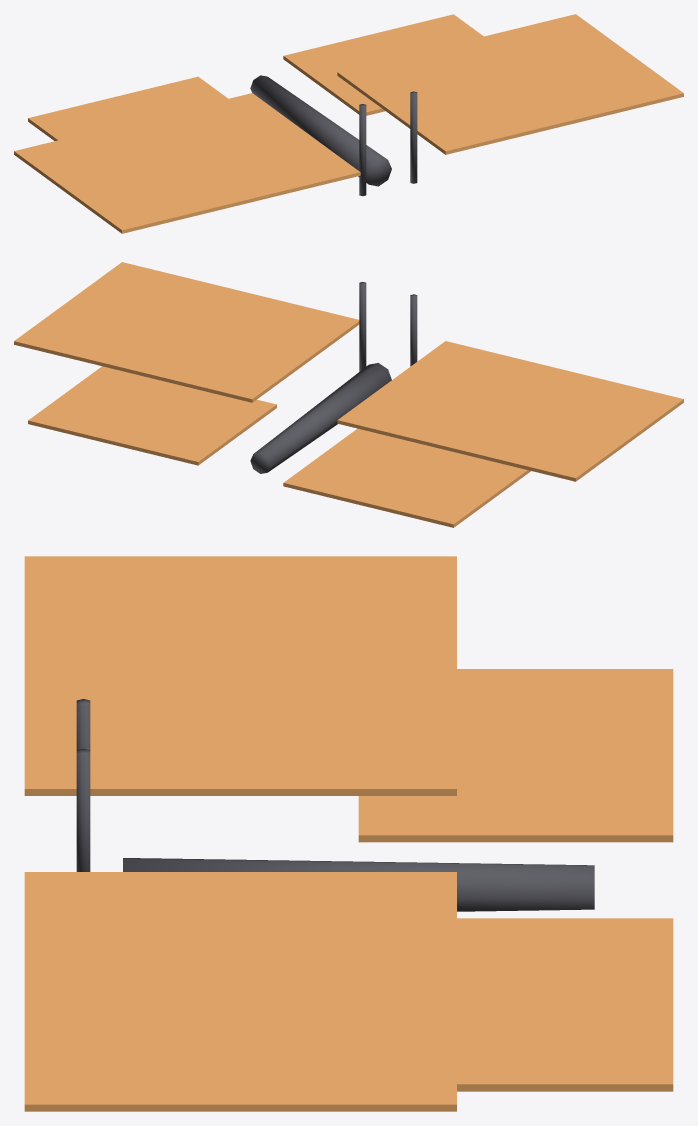
The model's file is 193233ce-519c-45b6-8fd0-d9dbd616c555.glb.
3 views of the same model, one above another, from view 1: azimuth 30°, elevation 25°; view 2: azimuth 150°, elevation 25°; view 3: azimuth 270°, elevation 25° (orthographic). The views are drawn at different scales.
Visible parts, largest first — view 1: Generated3DMesh; view 2: Generated3DMesh; view 3: Generated3DMesh.
Boxes of the visible parts, x1,y1,x2,y2 form: Generated3DMesh: (14, 14, 683, 233); Generated3DMesh: (14, 262, 683, 527); Generated3DMesh: (24, 556, 673, 1111).
Bounding box in the file's own units: 3.3 × 0.53 × 1.65.
